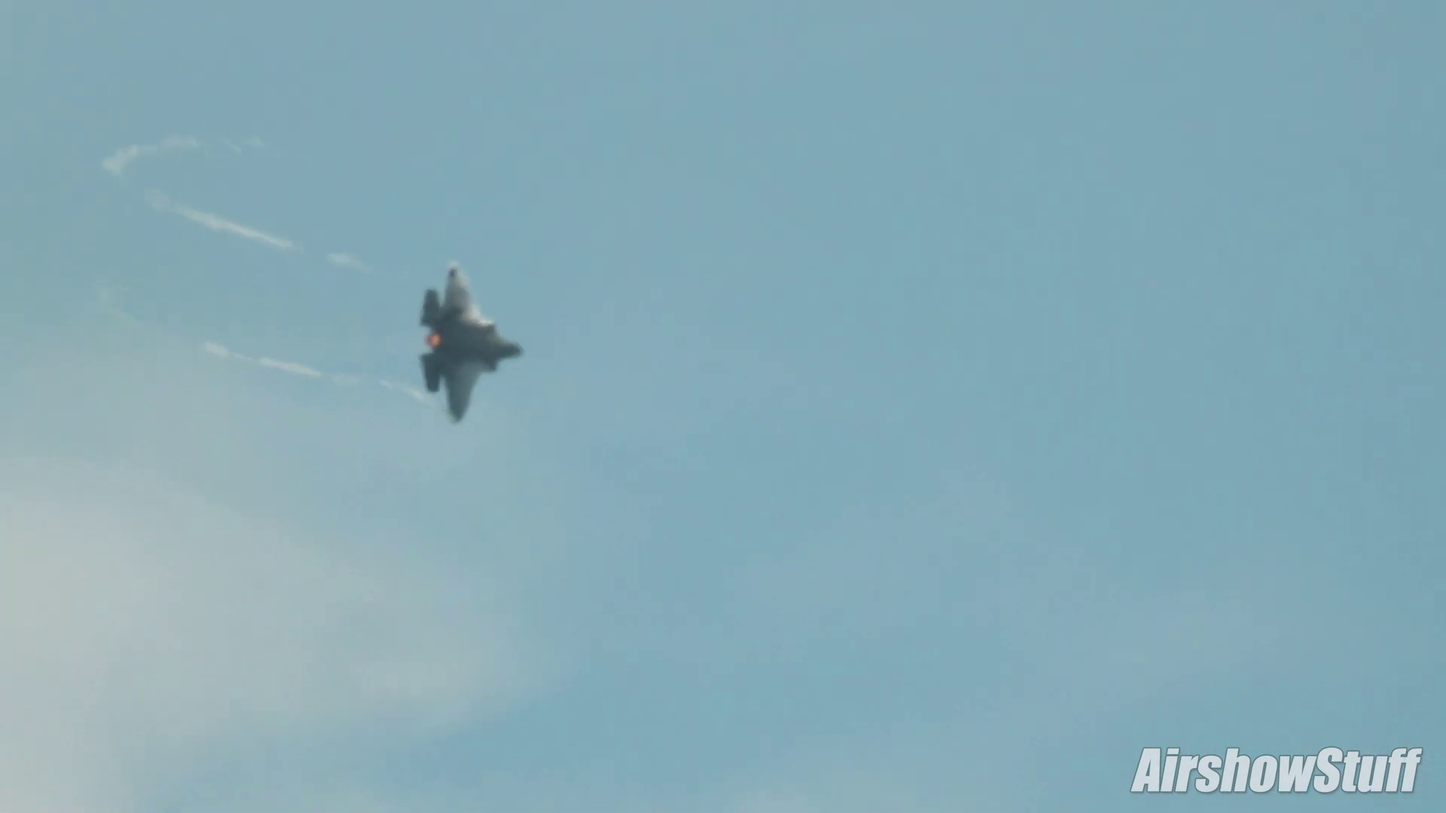F35: (407, 253, 530, 436)
